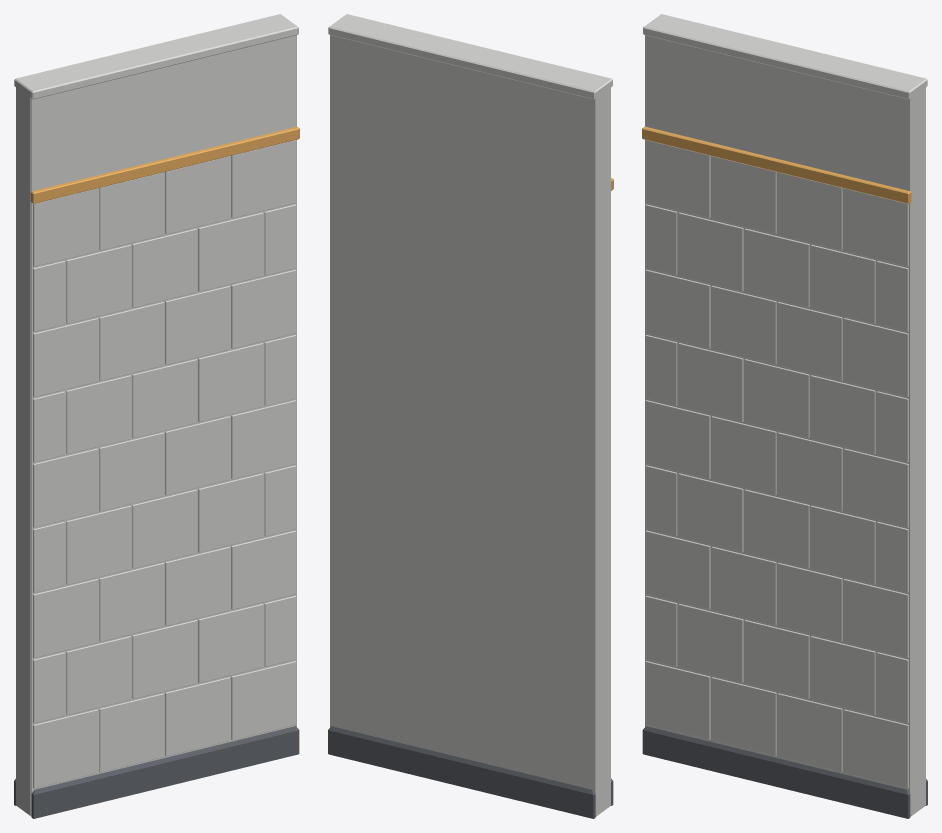
File: office-lobby-and-facilities-washroom-wall-module-3485dd11__26178.glb
3 renders of one model, left to right at view 1: azimuth 30°, elevation 25°; view 2: azimuth 150°, elevation 25°; view 3: azimuth 330°, elevation 25°, orthographic.
Parts seen in each view (by area): view 1: washroom-wall-module; view 2: washroom-wall-module; view 3: washroom-wall-module.
Part boxes in pixels (x1,y1,x2,y2): washroom-wall-module: (14, 14, 299, 818); washroom-wall-module: (328, 14, 613, 818); washroom-wall-module: (642, 14, 927, 818).
Size of the model in its own units: 1 by 2.6 by 0.13.
